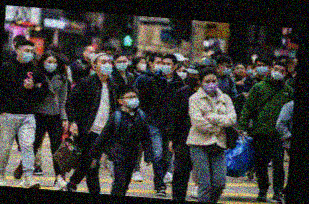with_mask: (98, 58, 113, 76), (202, 78, 218, 94), (124, 94, 140, 109), (270, 66, 285, 81), (20, 48, 34, 64), (42, 59, 58, 73), (160, 60, 173, 76), (115, 57, 127, 72), (186, 73, 198, 88), (175, 68, 187, 81), (222, 63, 233, 77), (255, 63, 267, 75), (106, 51, 116, 63), (152, 60, 161, 73), (138, 60, 147, 72), (86, 49, 95, 60), (210, 56, 218, 67), (245, 65, 252, 74), (127, 56, 132, 67)
without_mask: (233, 65, 244, 77)
